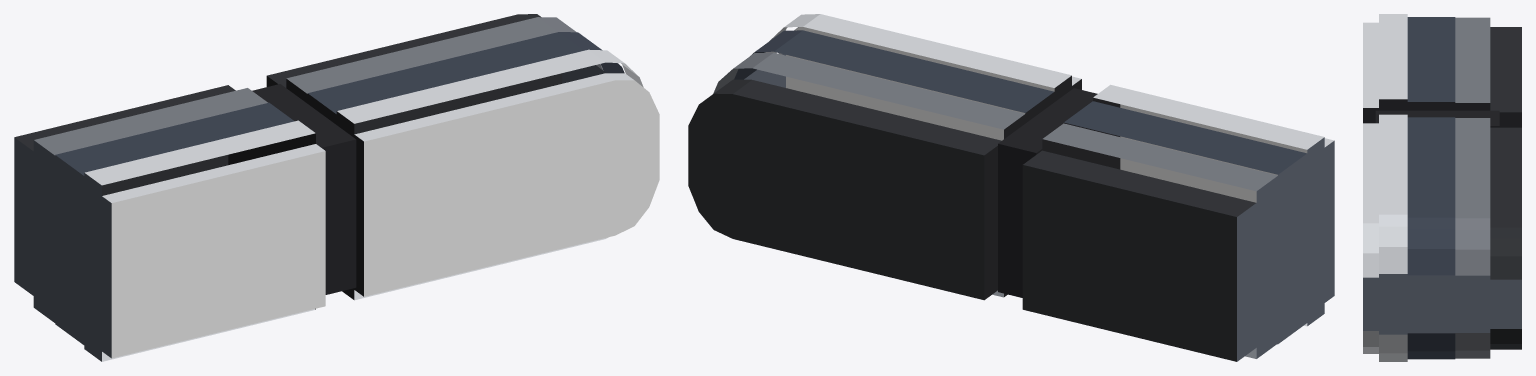
The model's file is brt.gltf.
3 renders of one model, left to right at view 1: azimuth 30°, elevation 25°; view 2: azimuth 150°, elevation 25°; view 3: azimuth 270°, elevation 25°, orthographic. The views are drawn at different scales.
Parts seen in each view (by area): view 1: brt; view 2: brt; view 3: brt.
Part boxes in pixels (x1,y1,x2,y2): brt: [14, 14, 659, 361]; brt: [688, 14, 1334, 361]; brt: [1363, 14, 1521, 361].
Size of the model in its own units: 10.4 by 3.2 by 3.2.
Materials: 1 (1 with a texture image).
